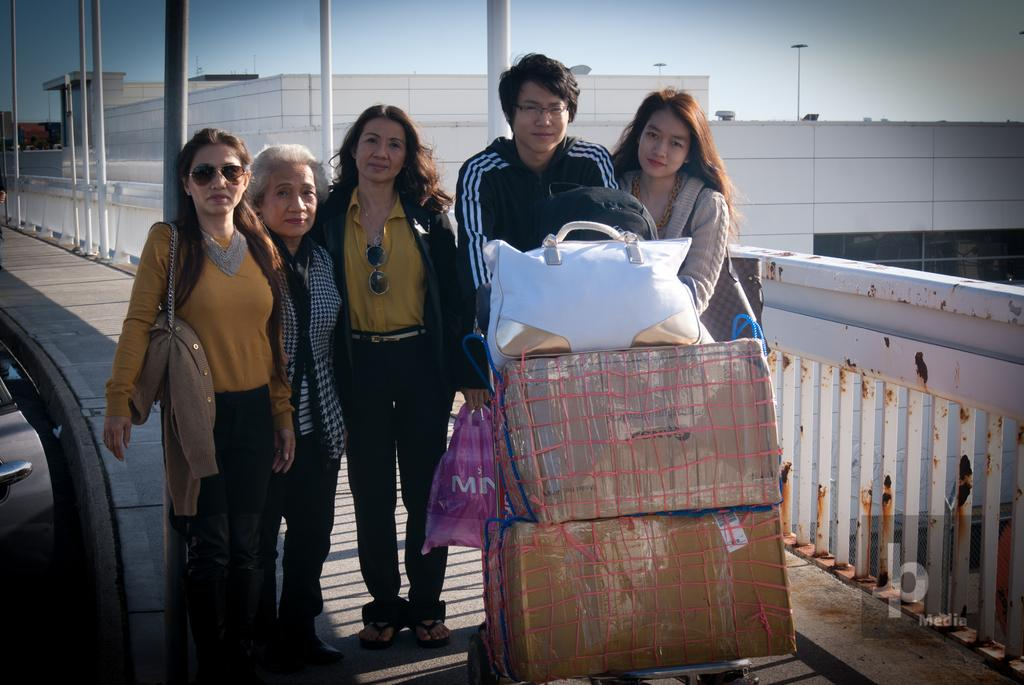Luggage-and-bags: (480, 275, 795, 666), (481, 220, 716, 381), (143, 221, 193, 418), (522, 185, 662, 239)
